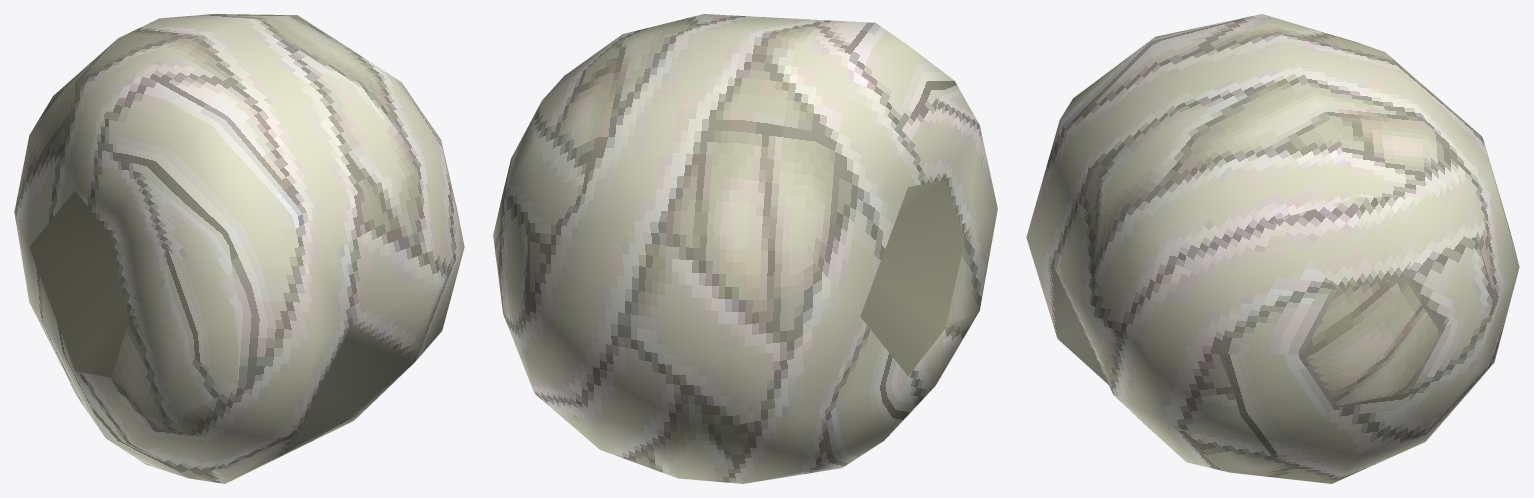
Rendered from hlmt_dressing.dae.
3 views of the same model, side by side, from view 1: azimuth 30°, elevation 25°; view 2: azimuth 150°, elevation 25°; view 3: azimuth 270°, elevation 25° (orthographic). The views are drawn at different scales.
Visible parts, largest first — view 1: hlmt_dressing; view 2: hlmt_dressing; view 3: hlmt_dressing.
Boxes of the visible parts, x1,y1,x2,y2 form: hlmt_dressing: (14, 14, 464, 483); hlmt_dressing: (493, 14, 997, 483); hlmt_dressing: (1026, 14, 1519, 483).
Bounding box in the file's own units: 20.96 × 23.28 × 24.9.
Materials: 1 (1 with a texture image).
